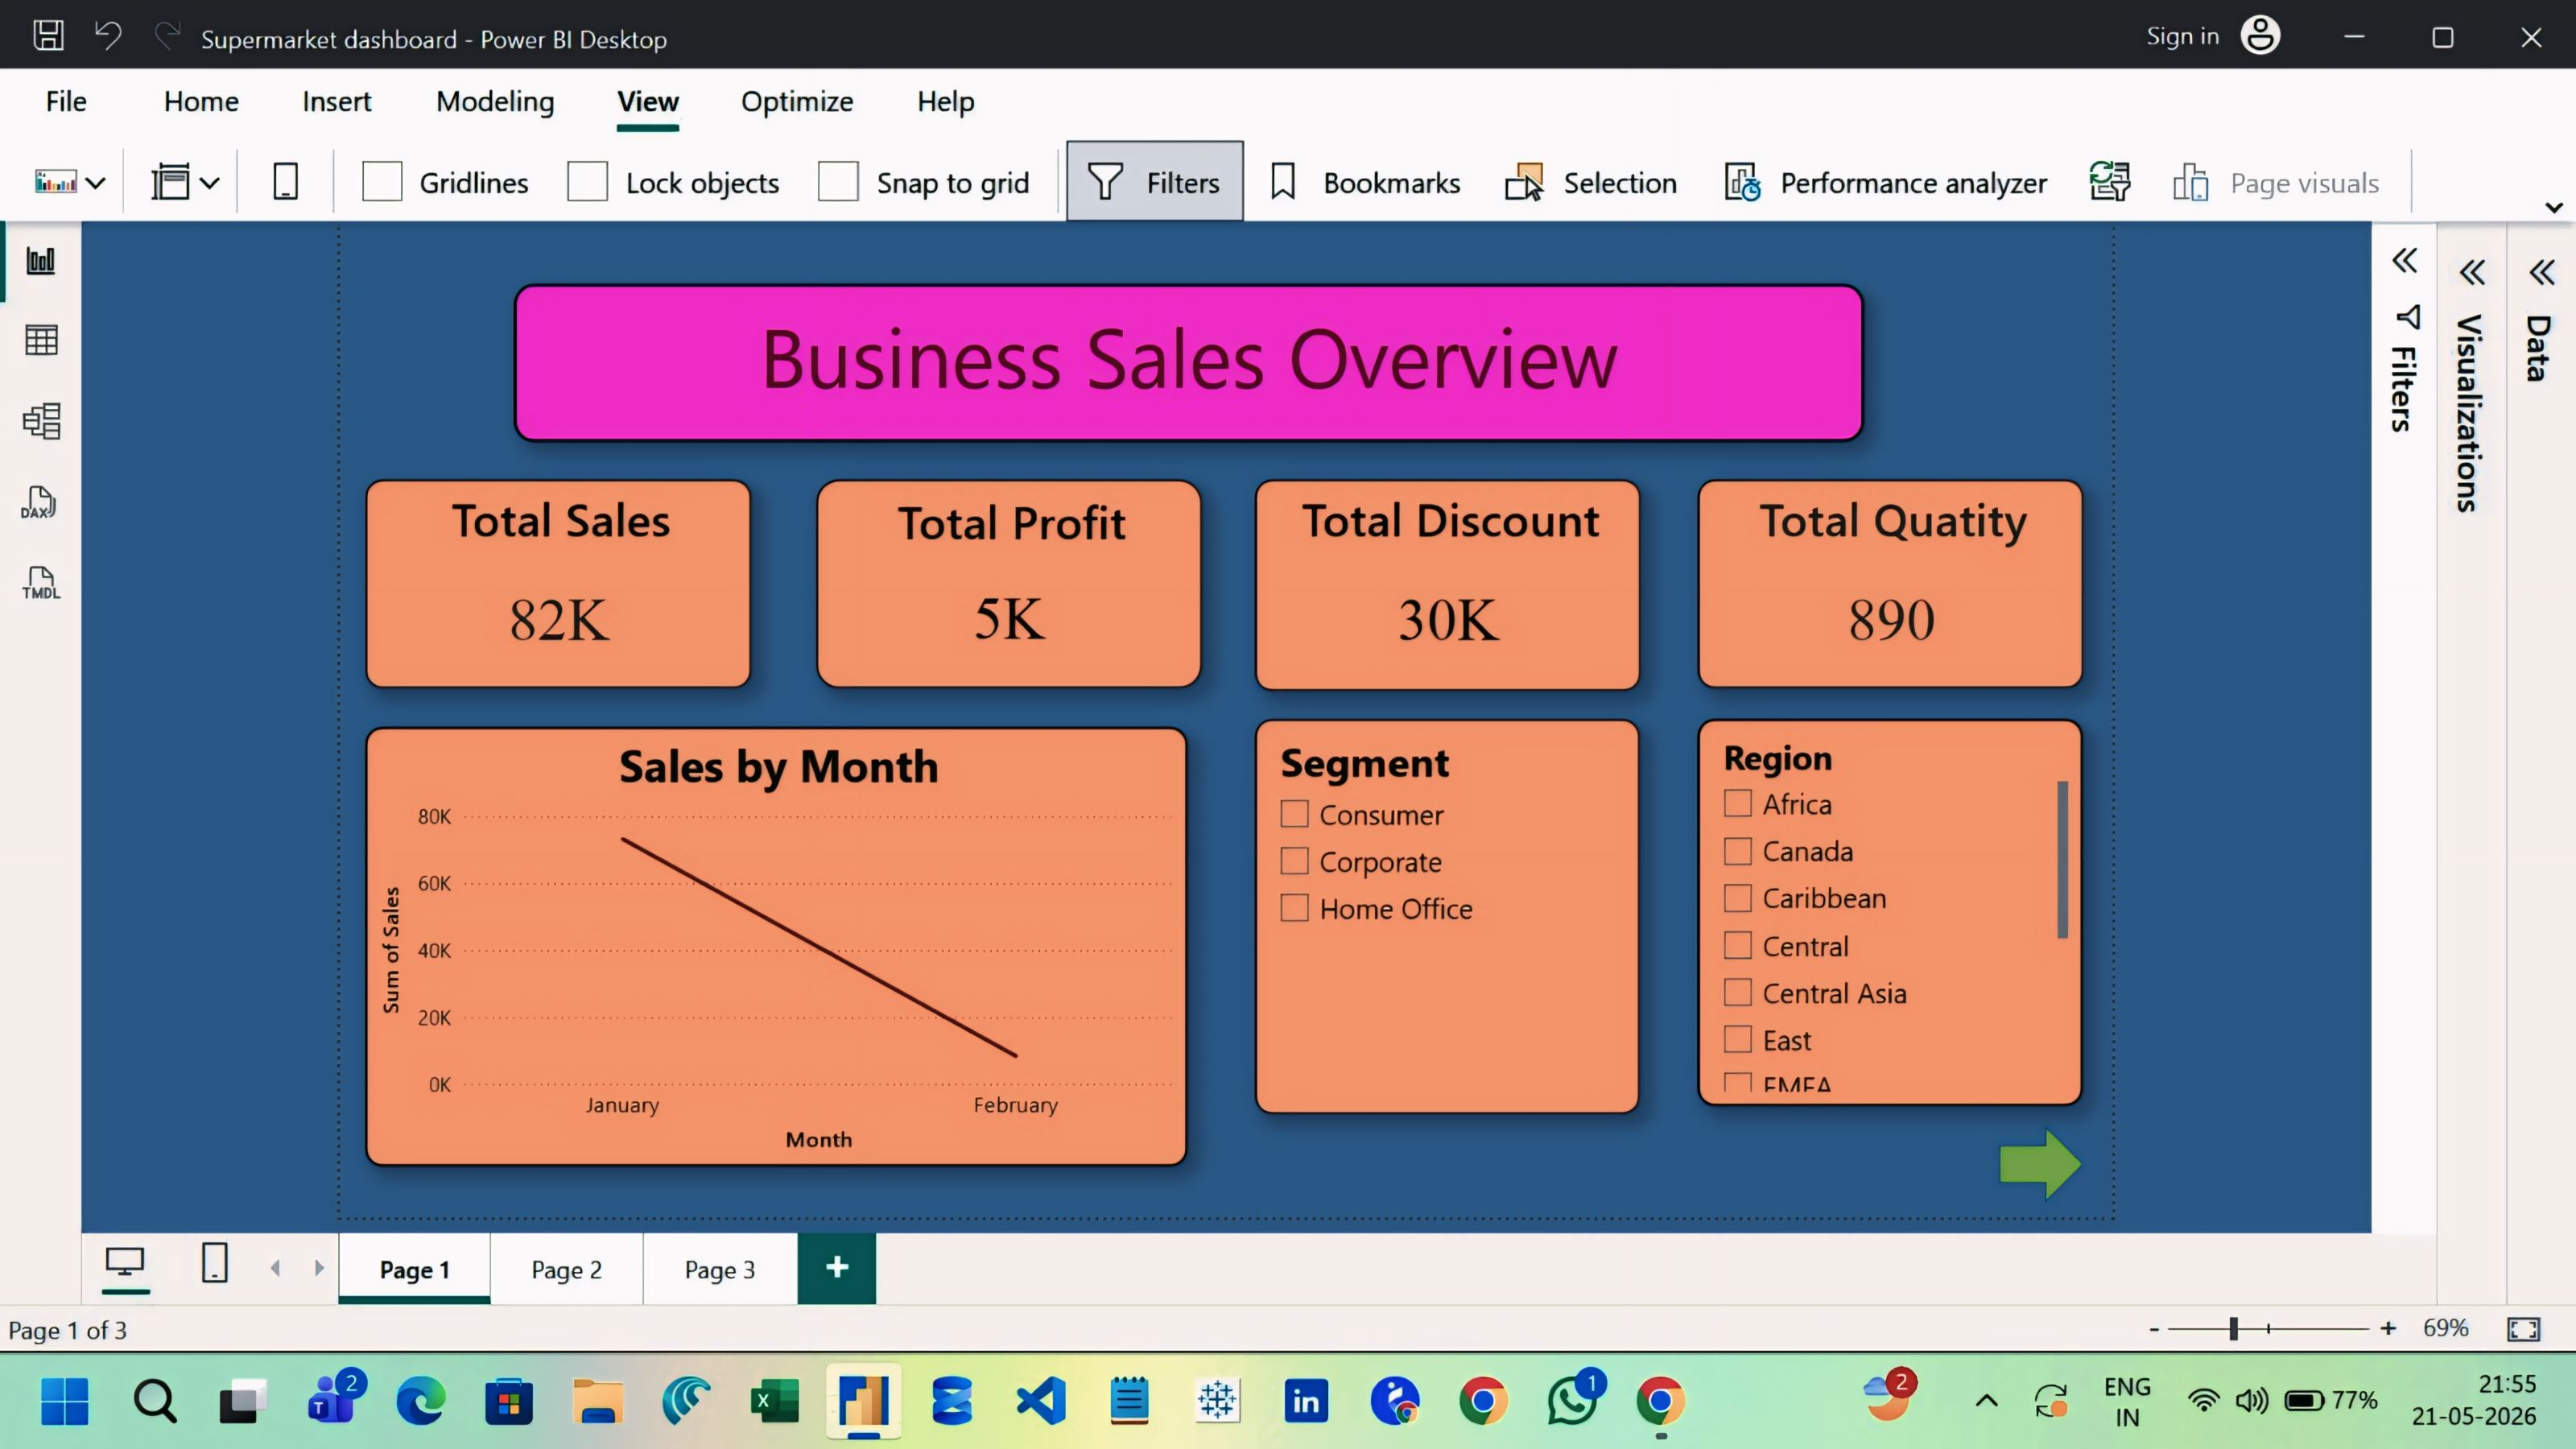

The dashboard page shown, as its layout file describes it:
{"tool":"powerbi","page":{"name":"Page 1","canvas":[1280,720],"ordinal":0},"visuals":[{"type":"card","title":"Total Sales","fields":{"Values":["Supermarket data.Sum"]},"box":[17.8,186.2,280.1,152.2],"z":0},{"type":"card","title":"Total Discount","fields":{"Values":["Supermarket data.Discount status"]},"box":[660.6,186.2,280.1,153.8],"z":1000},{"type":"card","title":"Total Profit","fields":{"Values":["Supermarket data.Total profit"]},"box":[343.3,186.2,280.1,152.2],"z":2000},{"type":"card","title":"Total Quatity","fields":{"Values":["Supermarket data.Total Quatity"]},"box":[981.3,186.2,280.1,152.2],"z":3000},{"type":"lineChart","title":"Sales by Month","fields":{"Category":["Supermarket data.order_date.Variation.Date Hierarchy.Month","Supermarket data.order_date.Variation.Date Hierarchy.Day"],"Y":["Sum(Supermarket data.sales)"]},"box":[17.5,365.3,595.3,318.8],"z":4000},{"type":"slicer","fields":{"Values":["Supermarket data.region"]},"box":[981,359.5,279.5,280.9],"z":5000},{"type":"slicer","fields":{"Values":["Supermarket data.segment"]},"box":[660.8,359.5,279.5,286.7],"z":6000},{"type":"shape","box":[1199.8,654.2,61.5,56.7],"z":7000},{"type":"textbox","box":[124.7,45.3,976.4,115],"z":8000}]}

Visuals, with their boxes on the page's 1280x720 design canvas (x1, y1, x2, y2). These are canvas units, not pixel positions in the 2576x1449 screenshot, which may show the page scaled, cropped or inside an application window:
"Total Sales" card: <region>18, 186, 298, 338</region>
"Total Discount" card: <region>661, 186, 941, 340</region>
"Total Profit" card: <region>343, 186, 623, 338</region>
"Total Quatity" card: <region>981, 186, 1261, 338</region>
"Sales by Month" lineChart: <region>18, 365, 613, 684</region>
slicer - Supermarket data.region: <region>981, 360, 1260, 640</region>
slicer - Supermarket data.segment: <region>661, 360, 940, 646</region>
shape: <region>1200, 654, 1261, 711</region>
textbox: <region>125, 45, 1101, 160</region>
